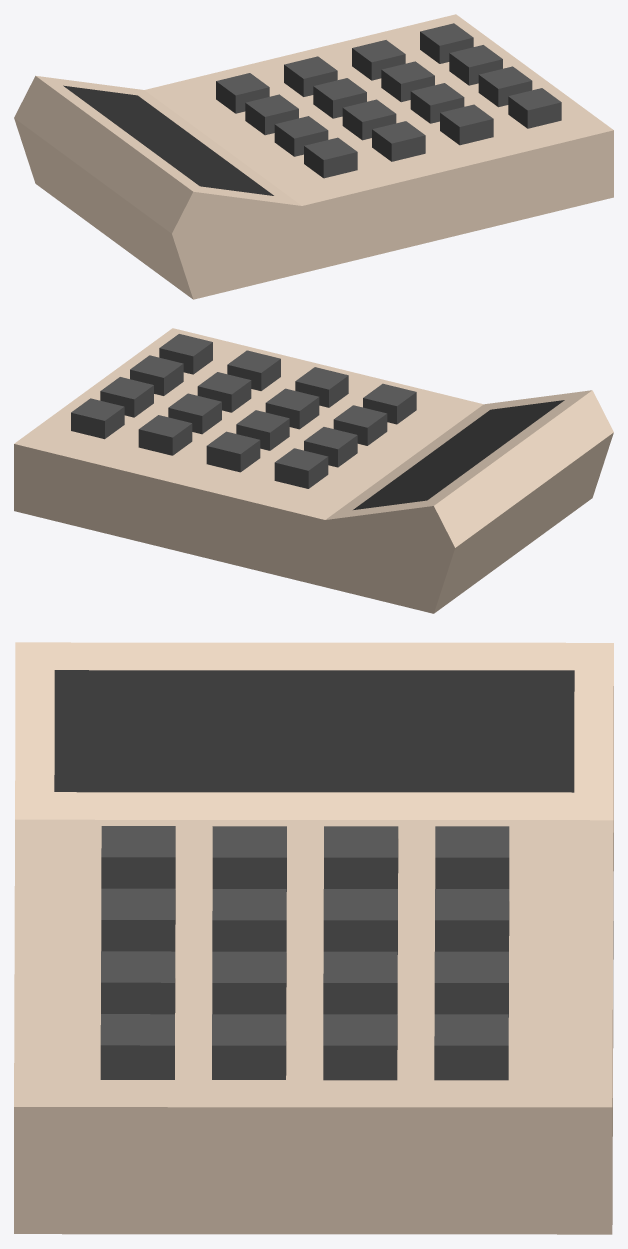
The model's file is Calculator.fbx.
The picture shows the model from 3 angles, top to bottom: view 1: azimuth 30°, elevation 25°; view 2: azimuth 150°, elevation 25°; view 3: azimuth 270°, elevation 25°; orthographic projection. The views are drawn at different scales.
Visible parts, largest first — view 1: Calculator; view 2: Calculator; view 3: Calculator.
Boxes of the visible parts, left/top/right/bottom form: Calculator: left=14, top=14, right=613, bottom=299; Calculator: left=14, top=328, right=613, bottom=613; Calculator: left=14, top=642, right=613, bottom=1234.
Size of the model in its own units: 0.2173 by 0.0507 by 0.1351.
